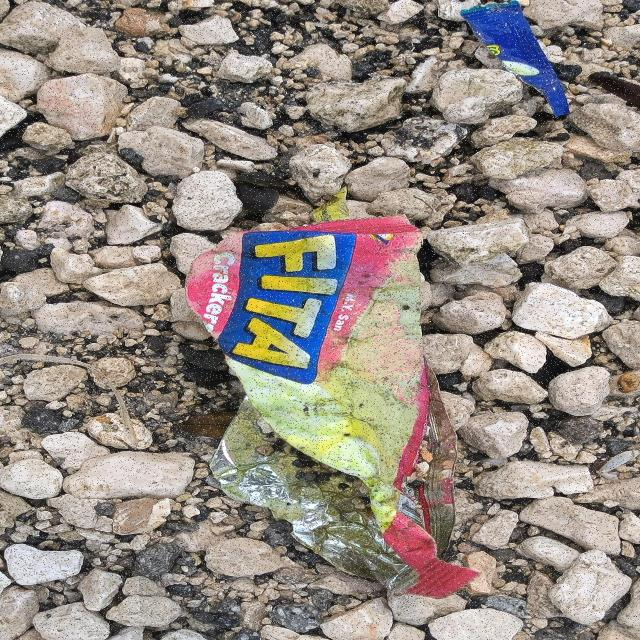plastic_waste: (184, 212, 484, 602), (462, 3, 575, 119)
